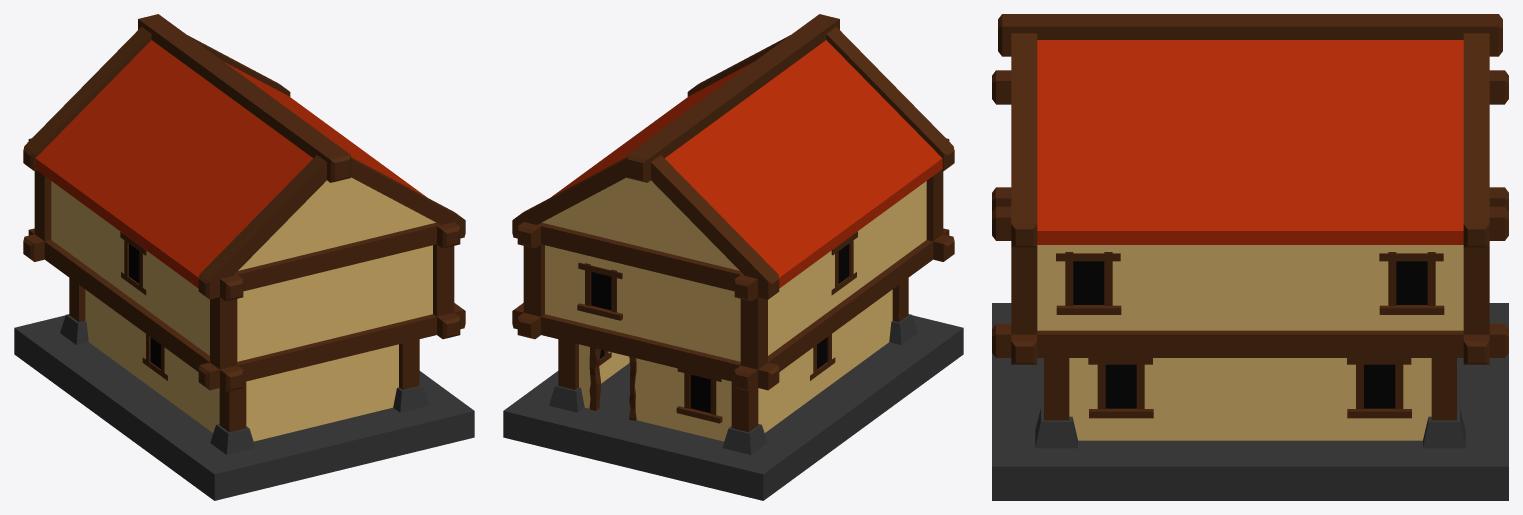
Rendered from MBS_City_House03_02.fbx.
3 views of the same model, side by side, from view 1: azimuth 30°, elevation 25°; view 2: azimuth 150°, elevation 25°; view 3: azimuth 270°, elevation 25° (orthographic). The views are drawn at different scales.
Parts seen in each view (by area): view 1: House03_1.001; view 2: House03_1.001; view 3: House03_1.001.
Part boxes in pixels (<box>): House03_1.001: <box>14,14,474,500</box>; House03_1.001: <box>503,14,963,500</box>; House03_1.001: <box>992,14,1508,500</box>.
Size of the model in its own units: 1200 by 1362 by 1600.
